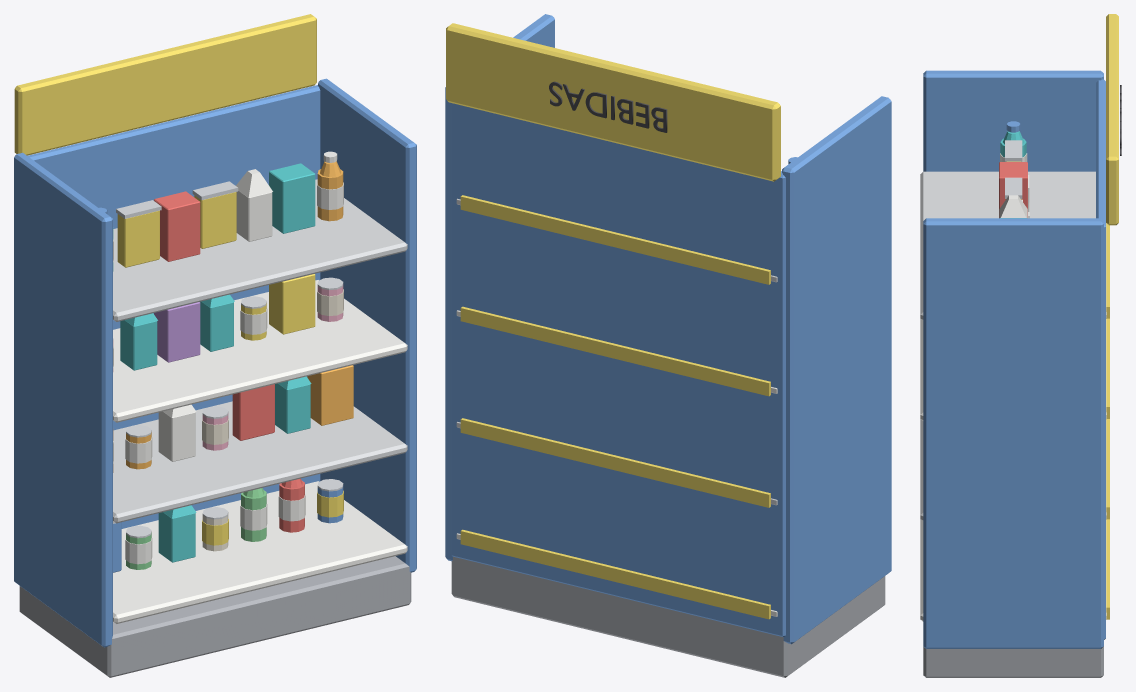
File: Estanteria_Bebidas.fbx
3 views of the same model, side by side, from view 1: azimuth 30°, elevation 25°; view 2: azimuth 150°, elevation 25°; view 3: azimuth 270°, elevation 25° (orthographic). The views are drawn at different scales.
Parts seen in each view (by area): view 1: Estanteria_Bebidas | Lateral izq, Estanteria_Bebidas | Lateral der, Estanteria_Bebidas | Panel letrero, Estanteria_Bebidas | Respaldo, Estanteria_Bebidas | Zocalo, Estanteria_Bebidas | Bandeja 1, Estanteria_Bebidas | Bandeja 2, Estanteria_Bebidas | Bandeja 3, Estanteria_Bebidas | Bandeja 4, Estanteria_Bebidas | Caja.004, Estanteria_Bebidas | Caja.003, Estanteria_Bebidas | Caja.002 (+17 smaller); view 2: Estanteria_Bebidas | Respaldo, Estanteria_Bebidas | Lateral izq, Estanteria_Bebidas | Panel letrero, Estanteria_Bebidas | Zocalo, Estanteria_Bebidas | Cantina precio.002, Estanteria_Bebidas | Cantina precio, Estanteria_Bebidas | Cantina precio.001, Estanteria_Bebidas | Cantina precio.003, Estanteria_Bebidas | Lateral der, Estanteria_Bebidas | Texto letrero; view 3: Estanteria_Bebidas | Lateral der, Estanteria_Bebidas | Lateral izq, Estanteria_Bebidas | Bandeja 4, Estanteria_Bebidas | Zocalo, Estanteria_Bebidas | Panel letrero, Estanteria_Bebidas | Respaldo, Estanteria_Bebidas | Caja.003, Estanteria_Bebidas | Tejado brik.005, Estanteria_Bebidas | Bandeja 2, Estanteria_Bebidas | Bandeja 1, Estanteria_Bebidas | Bandeja 3, Estanteria_Bebidas | Cantina precio (+5 smaller).
Boxes of the visible parts, <box> form: Estanteria_Bebidas | Lateral izq: <box>14,152,112,647</box>; Estanteria_Bebidas | Lateral der: <box>318,78,416,572</box>; Estanteria_Bebidas | Panel letrero: <box>14,14,316,155</box>; Estanteria_Bebidas | Respaldo: <box>27,85,320,528</box>; Estanteria_Bebidas | Zocalo: <box>19,556,411,677</box>; Estanteria_Bebidas | Bandeja 1: <box>113,481,407,623</box>; Estanteria_Bebidas | Bandeja 2: <box>113,401,407,523</box>; Estanteria_Bebidas | Bandeja 3: <box>113,280,407,422</box>; Estanteria_Bebidas | Bandeja 4: <box>113,179,407,321</box>; Estanteria_Bebidas | Caja.004: <box>269,163,315,233</box>; Estanteria_Bebidas | Caja.003: <box>154,191,200,261</box>; Estanteria_Bebidas | Caja.002: <box>269,274,315,334</box>; Estanteria_Bebidas | Respaldo: <box>450,103,785,637</box>; Estanteria_Bebidas | Lateral izq: <box>782,96,891,644</box>; Estanteria_Bebidas | Panel letrero: <box>446,23,780,181</box>; Estanteria_Bebidas | Zocalo: <box>451,556,885,677</box>; Estanteria_Bebidas | Cantina precio.002: <box>460,306,770,396</box>; Estanteria_Bebidas | Cantina precio: <box>460,529,770,619</box>; Estanteria_Bebidas | Cantina precio.001: <box>460,418,770,507</box>; Estanteria_Bebidas | Cantina precio.003: <box>460,195,770,284</box>; Estanteria_Bebidas | Lateral der: <box>445,14,554,561</box>; Estanteria_Bebidas | Texto letrero: <box>549,81,667,132</box>; Estanteria_Bebidas | Lateral der: <box>923,218,1103,648</box>; Estanteria_Bebidas | Lateral izq: <box>923,70,1103,171</box>; Estanteria_Bebidas | Bandeja 4: <box>920,171,1106,320</box>; Estanteria_Bebidas | Zocalo: <box>923,646,1103,677</box>; Estanteria_Bebidas | Panel letrero: <box>1106,14,1118,225</box>; Estanteria_Bebidas | Respaldo: <box>1096,79,1105,639</box>; Estanteria_Bebidas | Caja.003: <box>999,162,1027,217</box>; Estanteria_Bebidas | Tejado brik.005: <box>999,195,1027,217</box>; Estanteria_Bebidas | Bandeja 2: <box>920,419,1106,521</box>; Estanteria_Bebidas | Bandeja 1: <box>920,519,1106,621</box>; Estanteria_Bebidas | Bandeja 3: <box>920,319,1106,420</box>; Estanteria_Bebidas | Cantina precio: <box>1106,519,1109,619</box>.
Size of the model in its own units: 1.24 by 1.97 by 0.691.
